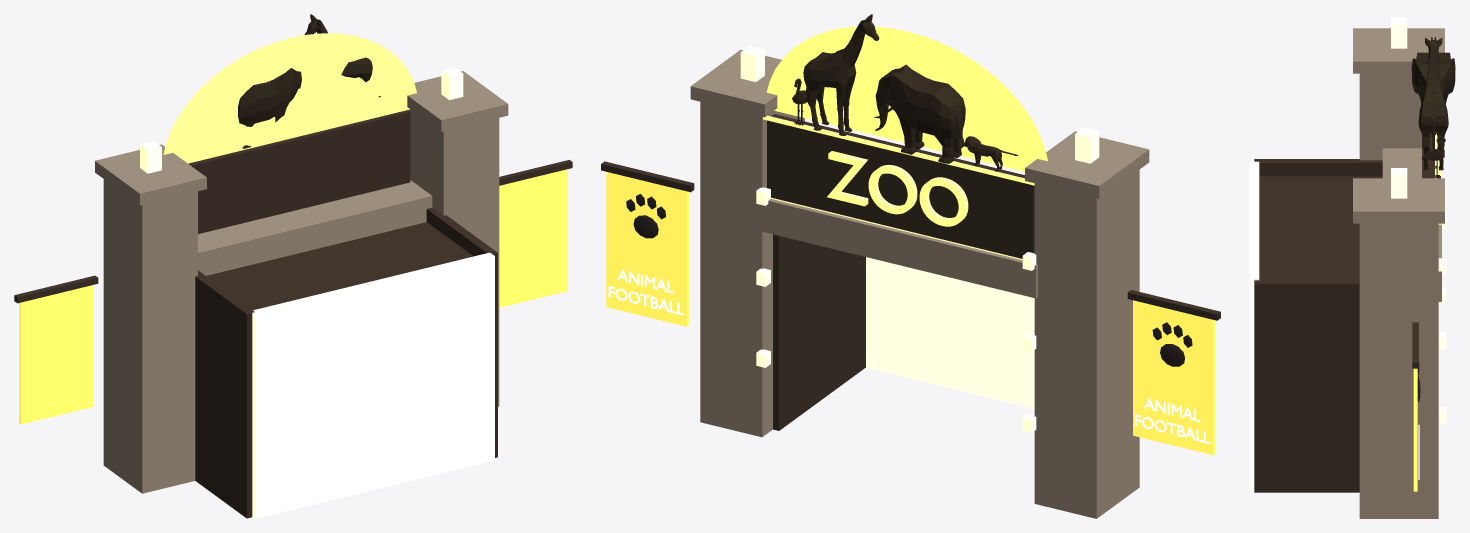
The model's file is SM_Zoo_Gate.glb.
3 views of the same model, side by side, from view 1: azimuth 30°, elevation 25°; view 2: azimuth 150°, elevation 25°; view 3: azimuth 270°, elevation 25° (orthographic). The views are drawn at different scales.
Visible parts, largest first — view 1: SM_Zoo_Gate; view 2: SM_Zoo_Gate; view 3: SM_Zoo_Gate.
Boxes of the visible parts, x1,y1,x2,y2 form: SM_Zoo_Gate: [14, 14, 572, 518]; SM_Zoo_Gate: [601, 14, 1220, 518]; SM_Zoo_Gate: [1249, 17, 1455, 518].
Size of the model in its own units: 19.9 by 13.67 by 6.26.
